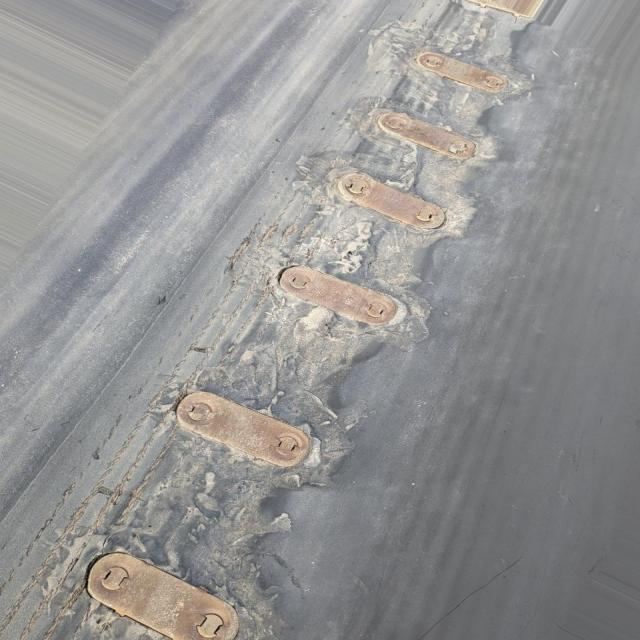patch work: (29, 15, 539, 640)
